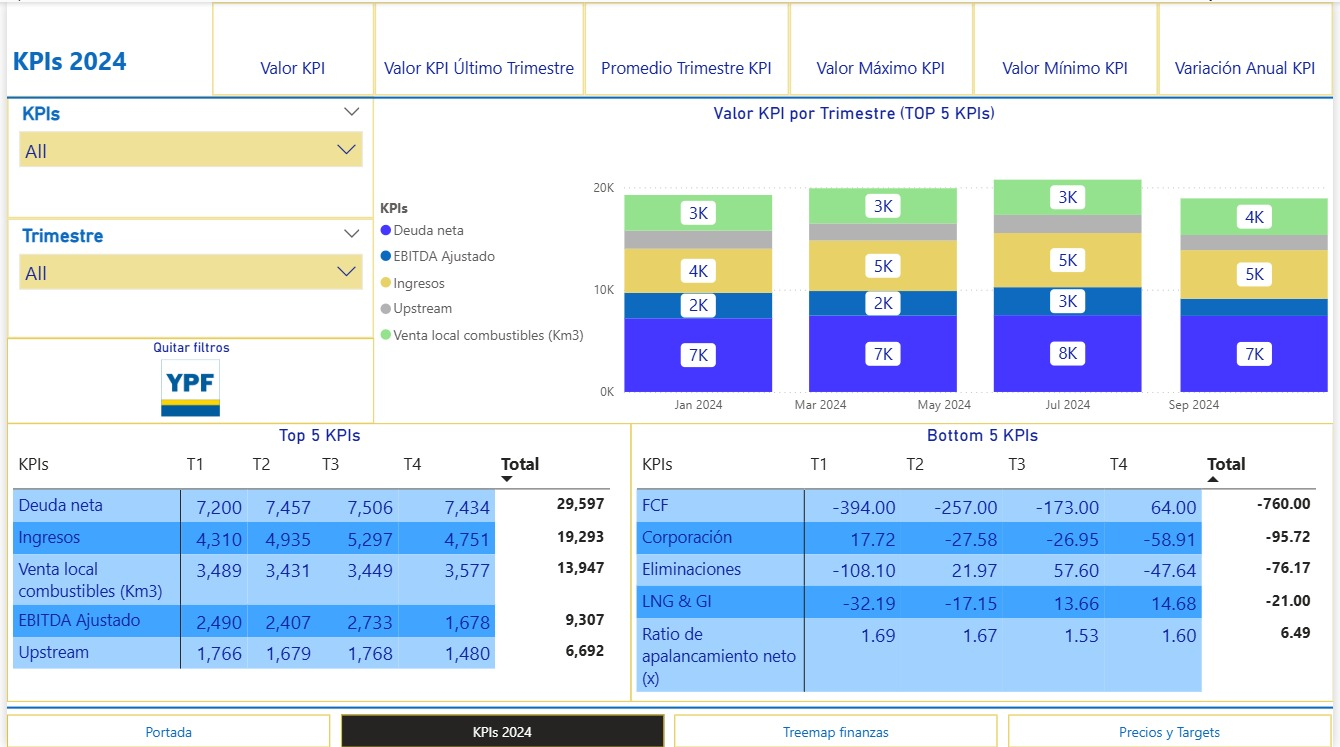

The page's visual inventory and layout, read from the dashboard file:
{"tool":"powerbi","page":{"name":"KPIs 2024","canvas":[1280,720],"ordinal":1},"visuals":[{"type":"slicer","fields":{"Values":["KPIs.KPIs"]},"box":[0,90.5,354.7,118.2],"z":0},{"type":"card","fields":{"Values":["KPIs.Valor KPI Seleccionado"]},"box":[197.9,0,156.8,90.5],"z":1000},{"type":"card","fields":{"Values":["KPIs.Valor Último Trimestre"]},"box":[354.7,0,202.7,90.5],"z":2000},{"type":"card","fields":{"Values":["KPIs.Promedio Trimestre"]},"box":[557.4,0,197.9,90.5],"z":3000},{"type":"card","fields":{"Values":["KPIs.Valor Máximo"]},"box":[755.2,0,177.3,90.5],"z":4000},{"type":"card","fields":{"Values":["KPIs.Valor Mínimo"]},"box":[932.6,0,178.6,90.5],"z":5000},{"type":"card","fields":{"Values":["KPIs.Variación A_A"]},"box":[1111.5,0,168.8,90.6],"z":6000},{"type":"slicer","fields":{"Values":["Calendario.Trimestre"]},"box":[0,208.7,354.7,115.8],"z":7000},{"type":"image","title":"Quitar filtros","box":[0,324.5,354.7,82],"z":8000},{"type":"pageNavigator","box":[0,687.5,1280.3,32.9],"z":9000},{"type":"textbox","box":[0,0,197.6,96.1],"z":10000},{"type":"columnChart","title":"Valor KPI por Trimestre (TOP 5 KPIs)","fields":{"Category":["KPIs.FechaTrimestre"],"Y":["KPIs.Valor KPI"],"Series":["KPIs.KPIs"]},"box":[354.7,96.5,925.3,310.1],"z":11000},{"type":"pivotTable","title":"Top 5  KPIs","fields":{"Rows":["KPIs.KPIs"],"Columns":["Calendario.Trimestre"],"Values":["KPIs.Valor KPI"]},"box":[0,406.6,602,269],"z":12000},{"type":"pivotTable","title":"Bottom 5 KPIs","fields":{"Rows":["KPIs.KPIs"],"Columns":["Calendario.Trimestre"],"Values":["KPIs.Valor KPI"]},"box":[602,406.6,678,269],"z":13000},{"type":"shape","box":[0,82,1280,20.5],"z":13001},{"type":"shape","box":[0,674.4,1280,13.3],"z":13002}]}

Visuals, with their boxes in screenshot pixels (x1, y1, x2, y2), scaled from the page's 1280x720 canvas onto the 1340x747 screenshot:
slicer - KPIs.KPIs: [left=0, top=94, right=371, bottom=217]
card - KPIs.Valor KPI Seleccionado: [left=207, top=0, right=371, bottom=94]
card - KPIs.Valor Último Trimestre: [left=371, top=0, right=584, bottom=94]
card - KPIs.Promedio Trimestre: [left=584, top=0, right=791, bottom=94]
card - KPIs.Valor Máximo: [left=791, top=0, right=976, bottom=94]
card - KPIs.Valor Mínimo: [left=976, top=0, right=1163, bottom=94]
card - KPIs.Variación A_A: [left=1164, top=0, right=1339, bottom=94]
slicer - Calendario.Trimestre: [left=0, top=217, right=371, bottom=337]
"Quitar filtros" image: [left=0, top=337, right=371, bottom=422]
pageNavigator: [left=0, top=713, right=1339, bottom=746]
textbox: [left=0, top=0, right=207, bottom=100]
"Valor KPI por Trimestre (TOP 5 KPIs)" columnChart: [left=371, top=100, right=1339, bottom=422]
"Top 5  KPIs" pivotTable: [left=0, top=422, right=630, bottom=701]
"Bottom 5 KPIs" pivotTable: [left=630, top=422, right=1339, bottom=701]
shape: [left=0, top=85, right=1339, bottom=106]
shape: [left=0, top=700, right=1339, bottom=713]
